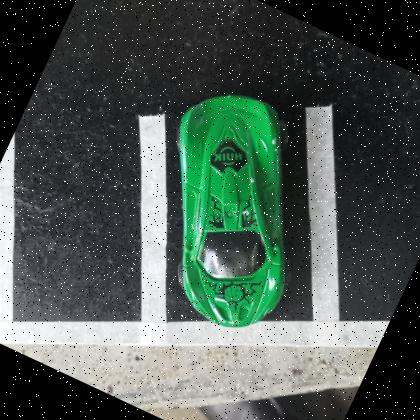Car: (178, 93, 286, 327)
